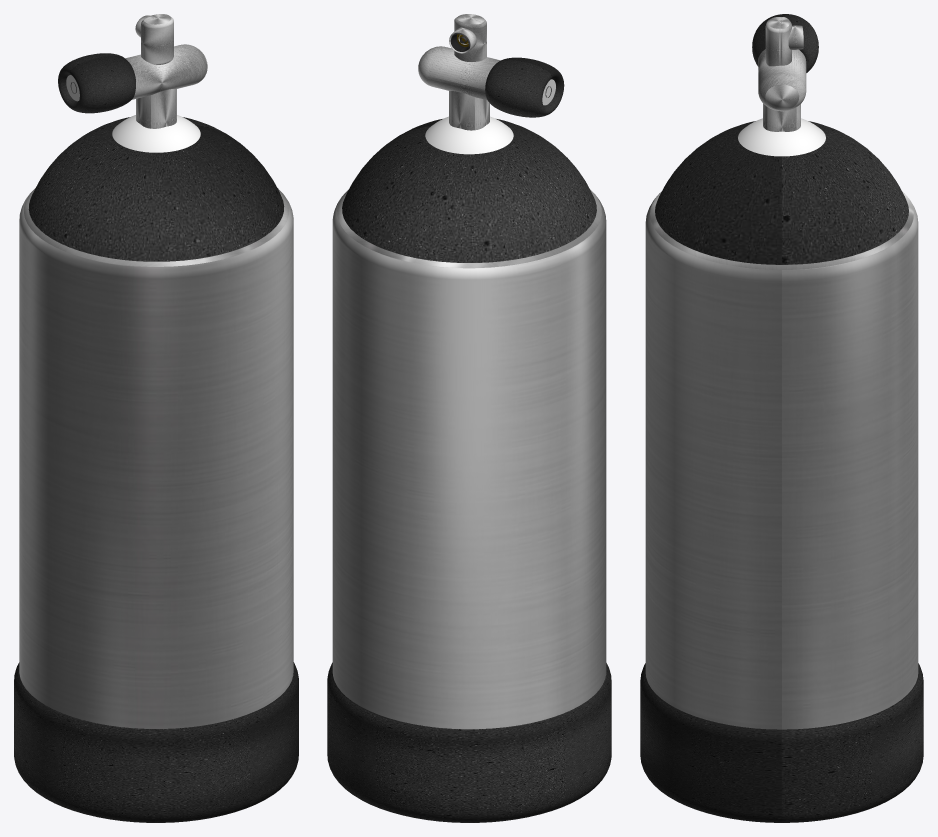
File: air-tank.glb
3 views of the same model, side by side, from view 1: azimuth 30°, elevation 25°; view 2: azimuth 150°, elevation 25°; view 3: azimuth 270°, elevation 25° (orthographic).
Visible parts, largest first — view 1: Cylinder, Cylinder 3, Sphere, Torus 1, Cylinder 1, Sphere 1, Cylinder 4, Box; view 2: Cylinder, Cylinder 3, Sphere, Torus 1, Cylinder 1, Sphere 1, Box, Cylinder 2; view 3: Cylinder, Cylinder 3, Sphere, Cylinder 1, Sphere 1, Torus 1, Box, Cylinder 4.
Part boxes in pixels (<box>): Cylinder: <box>19,188,293,728</box>; Cylinder 3: <box>14,662,298,822</box>; Sphere: <box>28,117,284,261</box>; Torus 1: <box>58,53,135,113</box>; Cylinder 1: <box>125,44,207,99</box>; Sphere 1: <box>112,115,200,152</box>; Cylinder 4: <box>142,15,173,64</box>; Box: <box>136,89,176,128</box>; Cylinder: <box>332,189,606,729</box>; Cylinder 3: <box>327,662,611,822</box>; Sphere: <box>342,119,596,262</box>; Torus 1: <box>485,57,564,117</box>; Cylinder 1: <box>418,46,500,100</box>; Sphere 1: <box>425,116,513,154</box>; Box: <box>449,91,489,130</box>; Cylinder 2: <box>454,16,484,61</box>; Cylinder: <box>645,192,918,729</box>; Cylinder 3: <box>640,663,923,822</box>; Sphere: <box>655,121,908,264</box>; Cylinder 1: <box>758,49,806,111</box>; Sphere 1: <box>738,118,825,156</box>; Torus 1: <box>752,14,818,72</box>; Box: <box>763,103,800,131</box>; Cylinder 4: <box>765,17,791,66</box>.
Bounding box in the file's own units: 0.0746 × 0.2169 × 0.0746.
18 materials, 14 textured.
